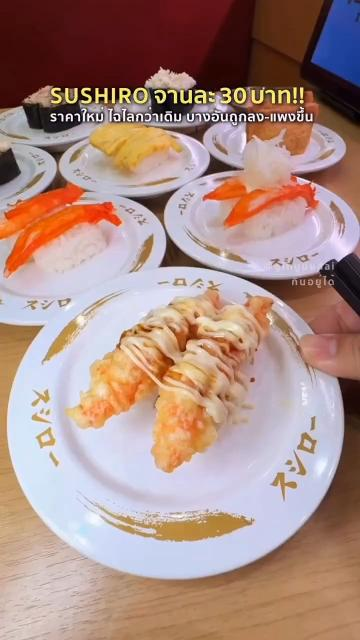janwhite: (15, 283, 352, 562), (177, 176, 355, 278), (0, 192, 168, 286), (72, 141, 214, 185), (0, 135, 57, 193), (293, 126, 345, 172), (0, 100, 29, 145)
